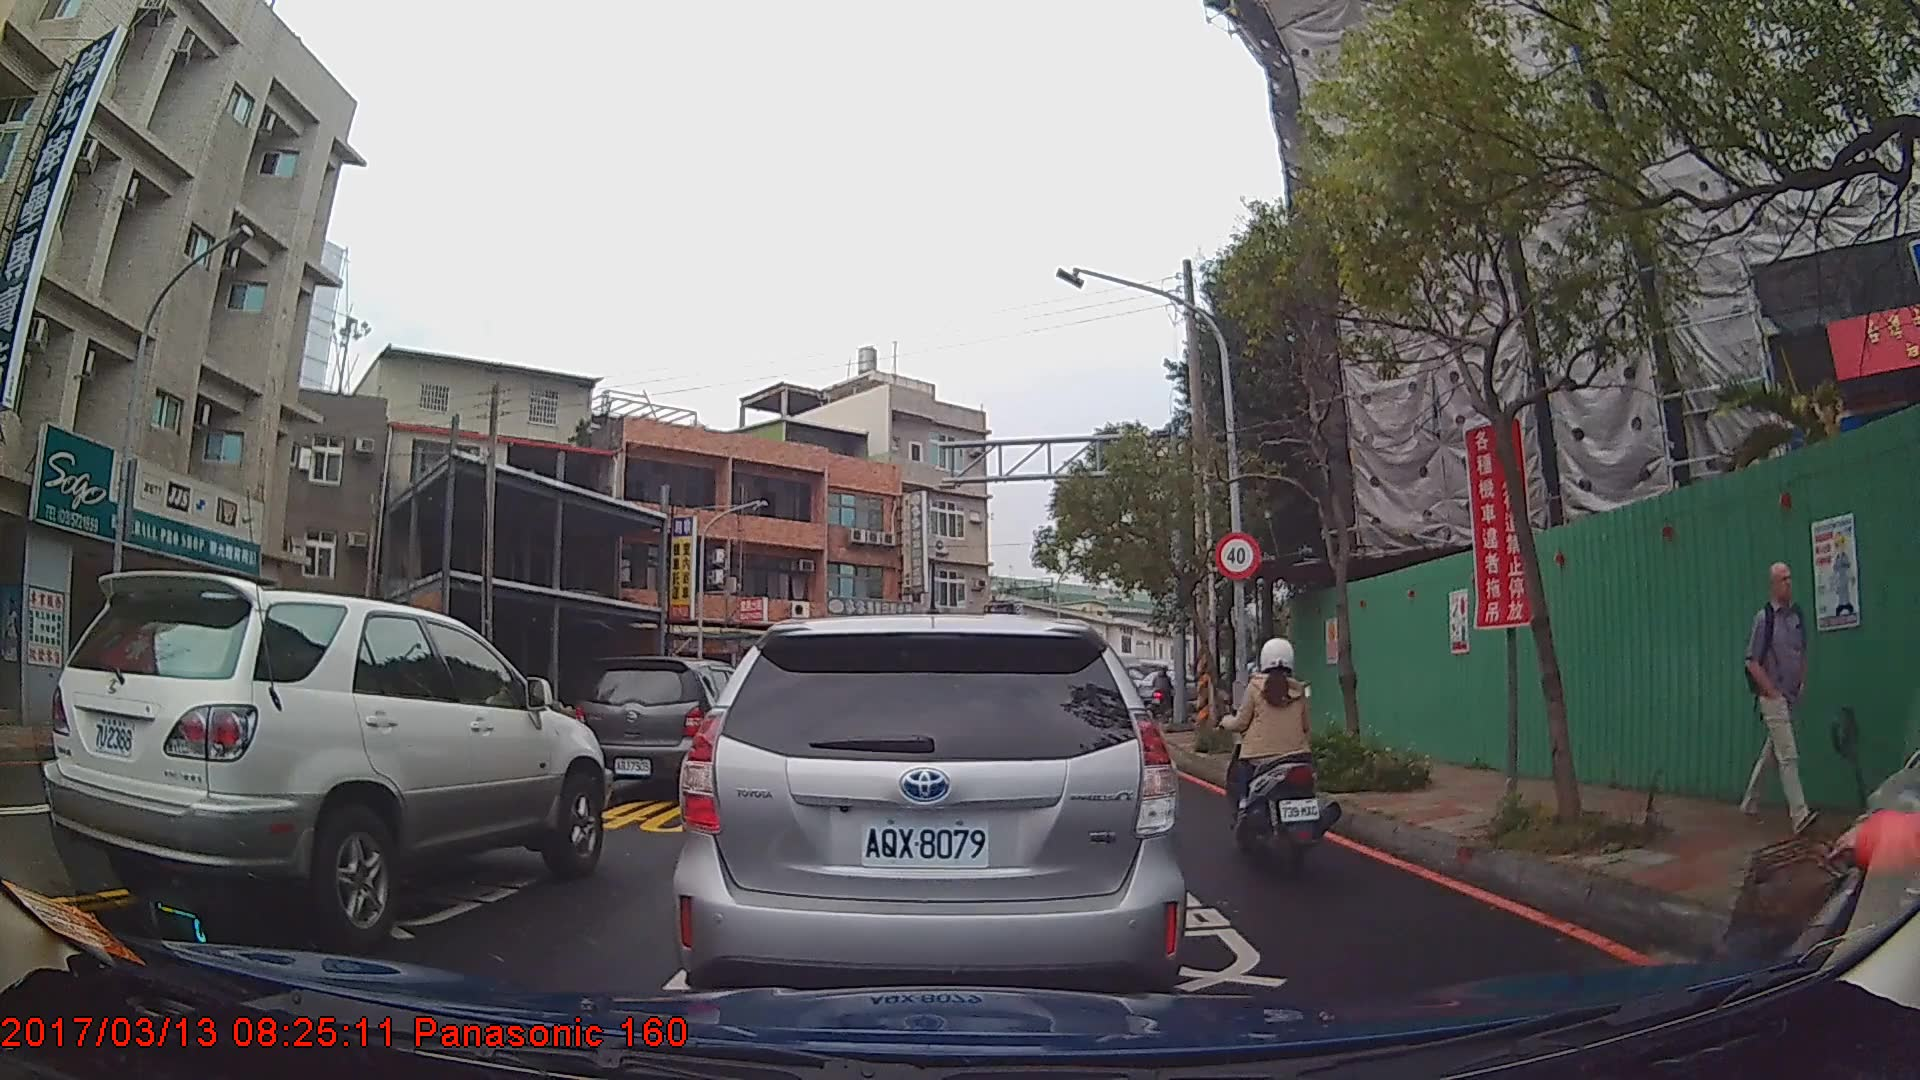pedestrian: (1737, 552, 1819, 830)
rider: (1723, 528, 1920, 1080), (1225, 633, 1343, 881), (1151, 665, 1175, 718)
vehicle: (670, 611, 1187, 1026), (44, 569, 611, 947), (575, 654, 775, 796)
